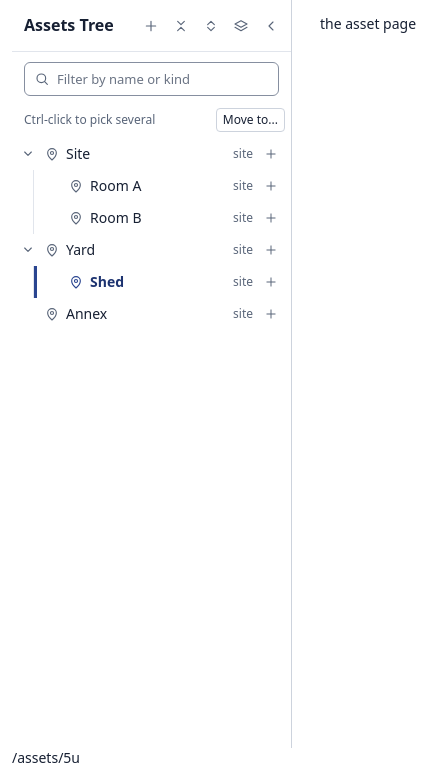
Test: deleting the picked assets from the pick bar (W7s) › a role without assets.delete picks, moves and clears but has no Delete in the bar
Check: the link "Annex" is shown, box [66,304,107,323]
Check: the element named "Selection" is shown, box [12,104,291,136]
Click the link "Room A".
click(116, 186)  # box [90,176,141,195]
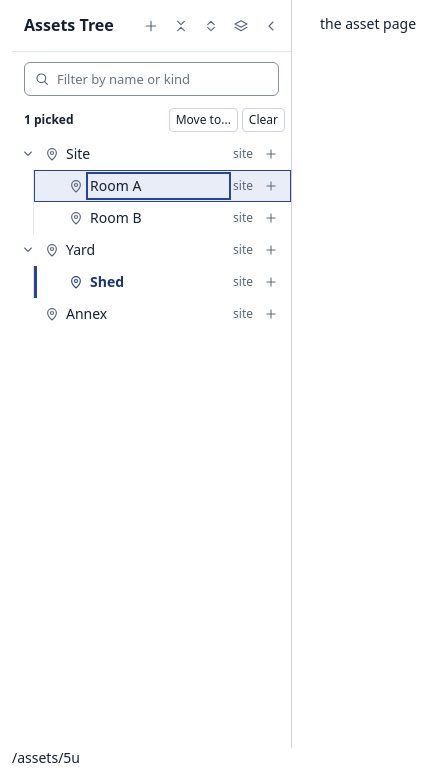
Click the link "Annex".
click(87, 314)  # box [66,304,107,323]
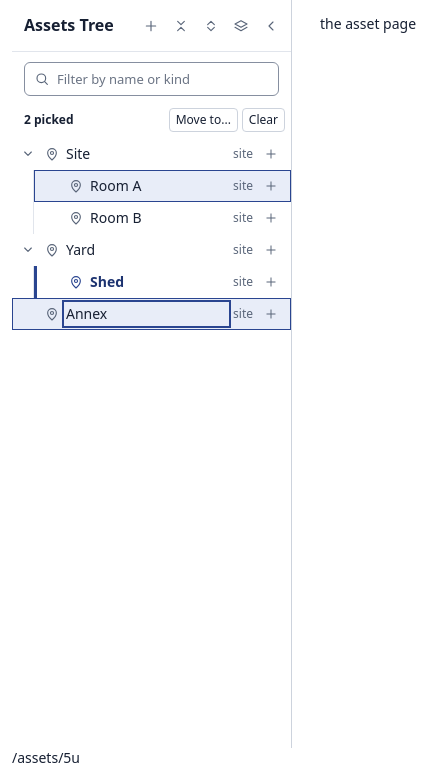
Check: the element named "Selection" shows "2 picked", box [24,111,74,128]
